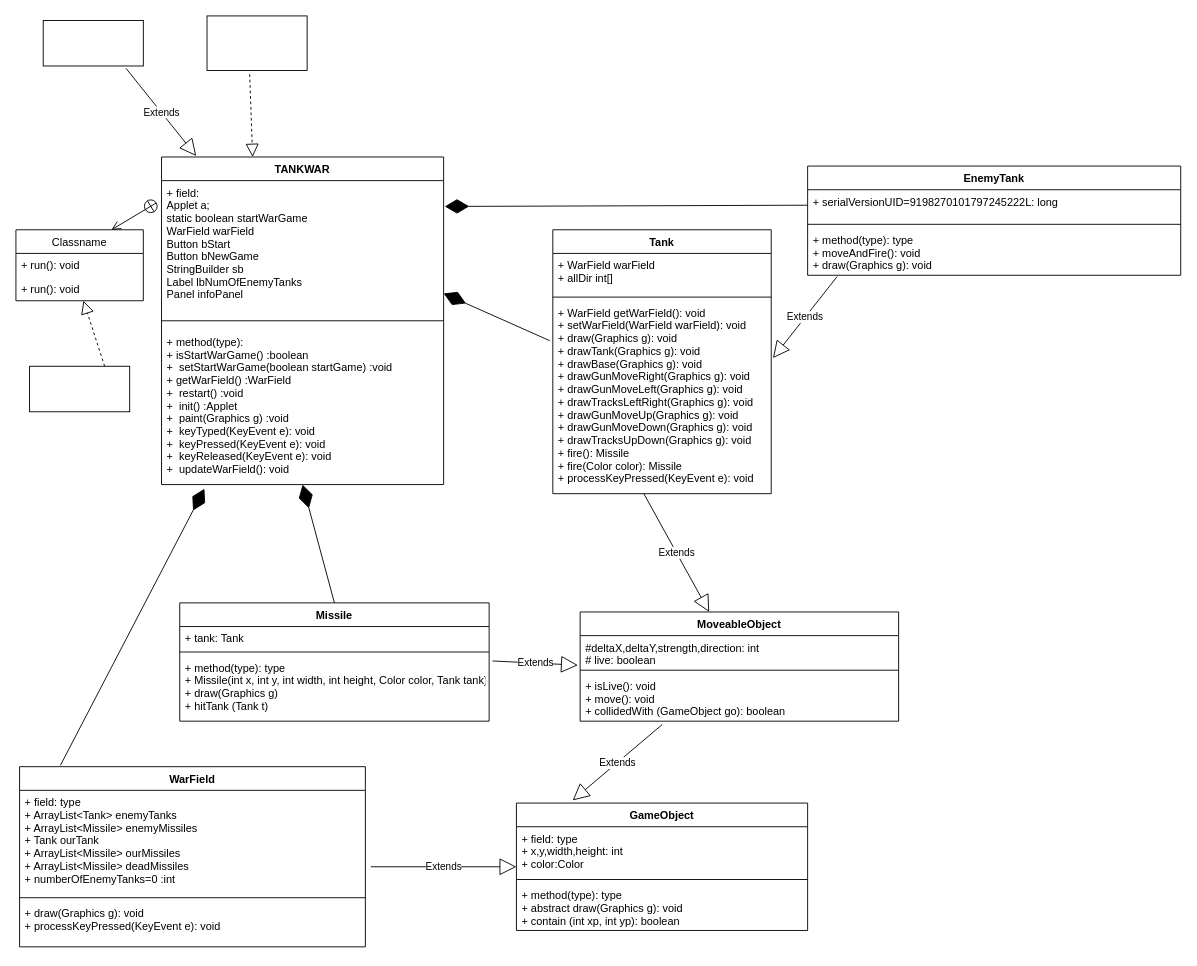
This 1197x966 diagram has some shape labels left out. Here are the shapes that lost their labels. From the top down, the centre of each, then its label:
At point (92, 43): "Applet".
At point (256, 43): "«interface» KeyListener".
At point (79, 388): "«interface» Runnable".
